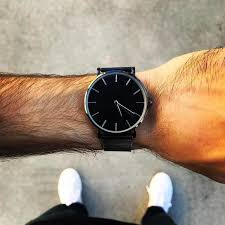clock: (85, 72, 147, 135)
